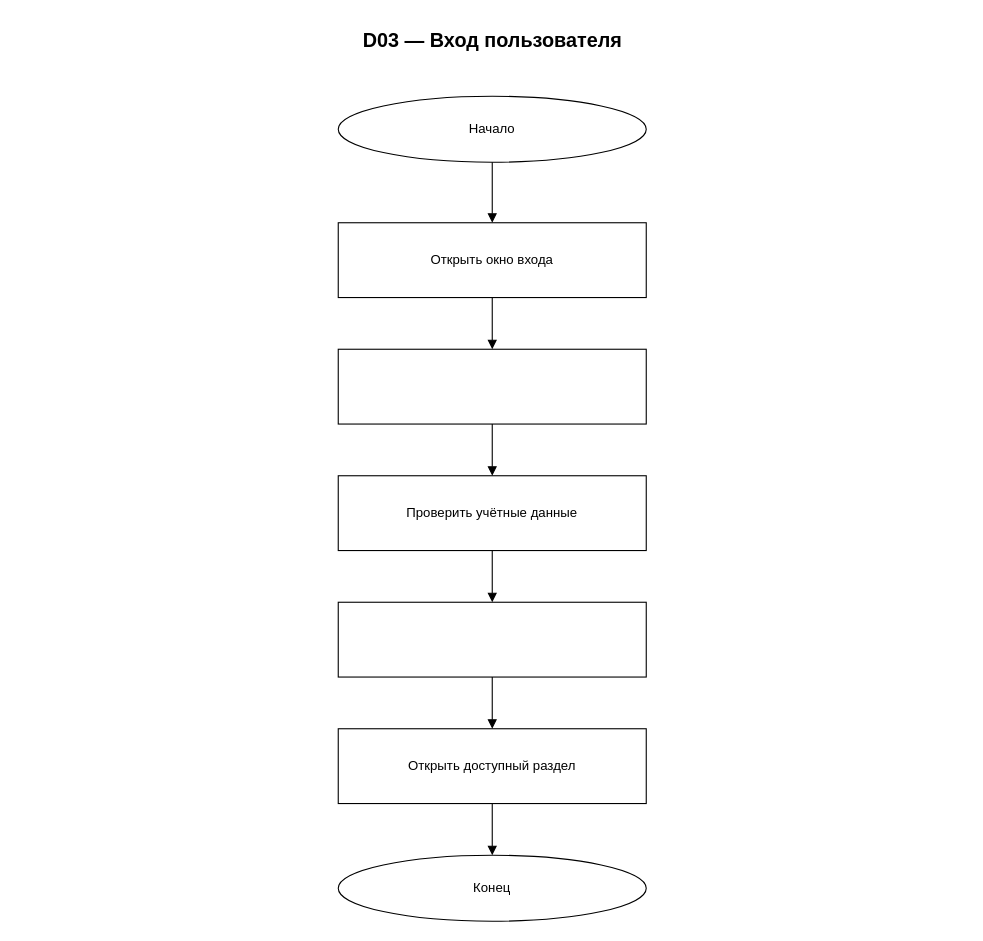
Image size: 983x941. Some labels were removed from this diagram. The shapes that lost their labels are listed below. From the top down, each one's box as (x1, y1, x2, y2) in pixels, then its label:
(337, 348, 646, 424): Ввести логин и пароль
(337, 601, 646, 677): Определить роль: владелец, ветеринар или администратор
